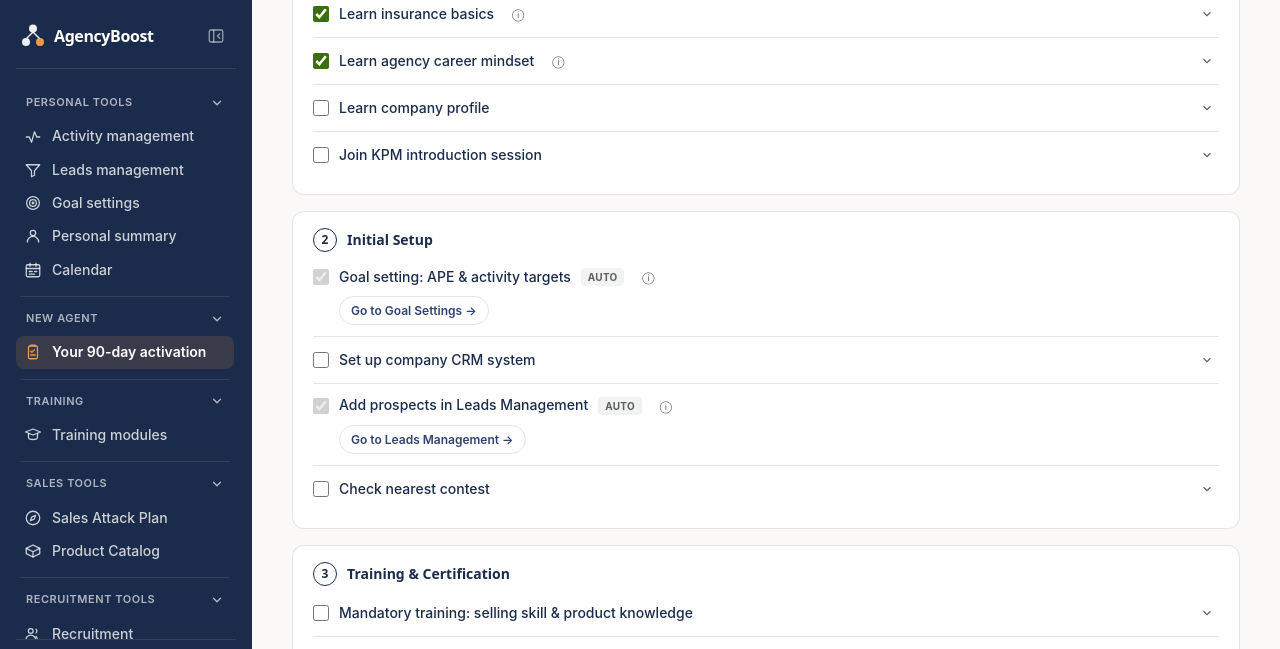
Scenario: /activation, the hire’s own 90-Day Activation (P13-T4) › P13-T4 AC-7 a refused tick puts the box back and says why
(page scrolled)
Click the checkbox labelled "Set up company CRM system" at (321, 360), box [313, 352, 329, 368]
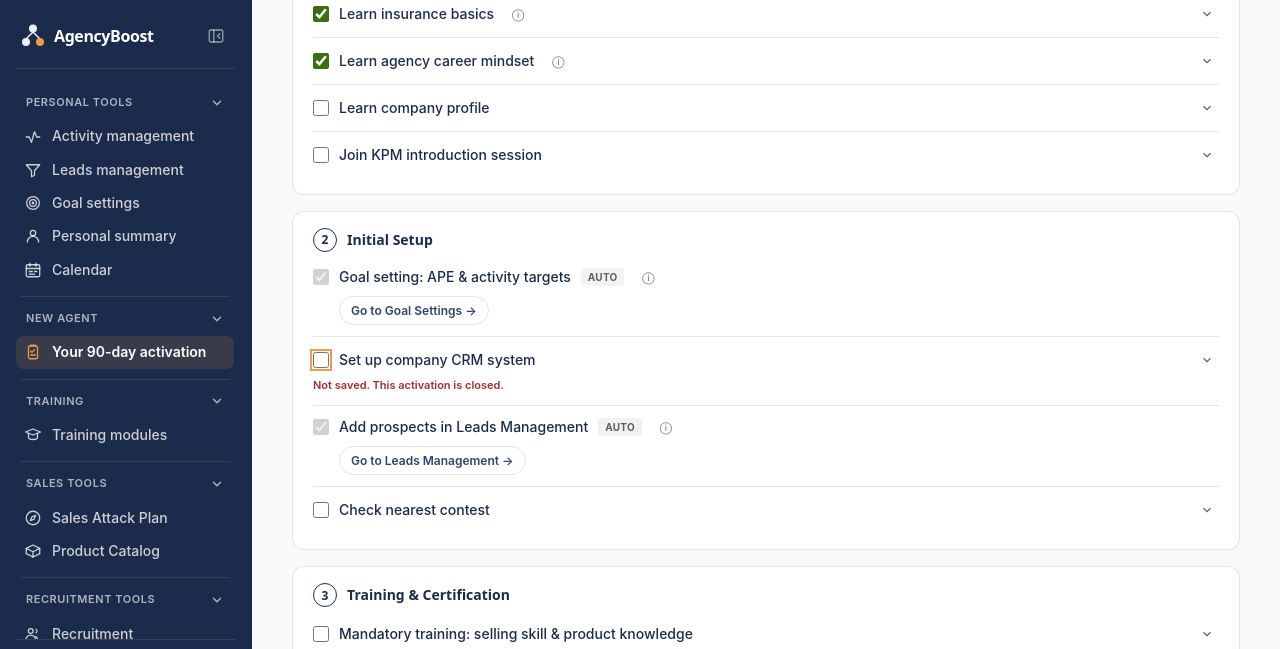
Expected: the message reads "Not saved. This activation is closed.", [313, 378, 504, 392]
